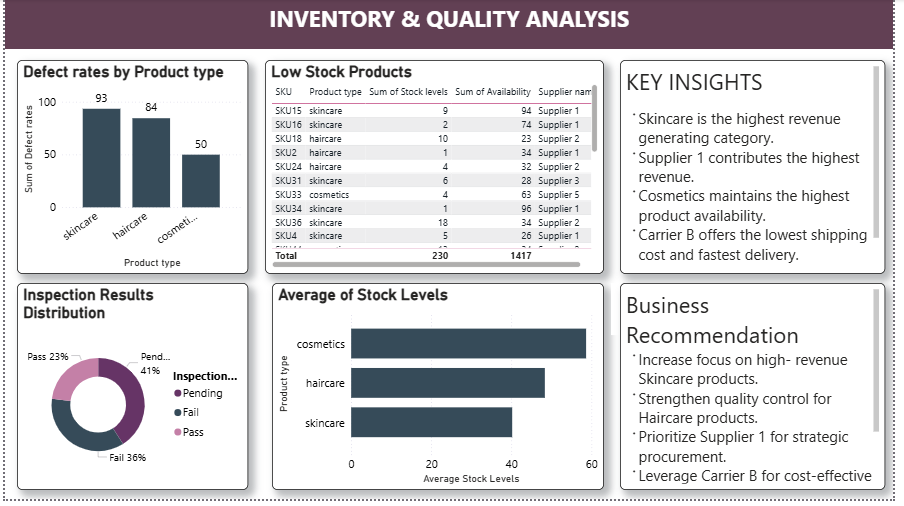

What the dashboard file says about the page in this screenshot:
{"tool":"powerbi","page":{"name":"Page 2","canvas":[1280,720],"ordinal":1},"visuals":[{"type":"columnChart","title":" Defect rates by Product type","fields":{"Category":["supply_chain_data.Product type"],"Y":["Sum(supply_chain_data.Defect rates)"]},"box":[17.3,87.8,332.6,308.2],"z":0},{"type":"donutChart","title":" Inspection Results Distribution","fields":{"Y":["CountNonNull(supply_chain_data.Inspection results)"],"Category":["supply_chain_data.Inspection results"]},"box":[17.3,409,332.6,298.1],"z":1},{"type":"tableEx","title":"Low Stock Products","fields":{"Values":["supply_chain_data.SKU","supply_chain_data.Product type","Sum(supply_chain_data.Stock levels)","Sum(supply_chain_data.Availability)","supply_chain_data.Supplier name"]},"box":[374.4,87.8,488.2,308.2],"z":2},{"type":"clusteredBarChart","title":"Average of Stock Levels ","fields":{"Category":["supply_chain_data.Product type"],"Y":["supply_chain_data.Average Stock Levels"]},"box":[384.5,409,478.1,298.1],"z":3},{"type":"textbox","box":[872.6,409,407.5,74.9],"z":4},{"type":"textbox","box":[0,0,1280.2,72],"z":5},{"type":"textbox","box":[885.6,87.8,381.6,308.2],"z":6},{"type":"textbox","box":[885.6,409,381.6,298.1],"z":7}]}

Visuals, with their boxes in screenshot pixels (x1, y1, x2, y2), scaled from the page's 1280x720 canvas onto the 904x506 screenshot:
" Defect rates by Product type" columnChart: [x1=12, y1=62, x2=247, y2=278]
" Inspection Results Distribution" donutChart: [x1=12, y1=287, x2=247, y2=497]
"Low Stock Products" tableEx: [x1=264, y1=62, x2=609, y2=278]
"Average of Stock Levels " clusteredBarChart: [x1=272, y1=287, x2=609, y2=497]
textbox: [x1=616, y1=287, x2=903, y2=340]
textbox: [x1=0, y1=0, x2=903, y2=51]
textbox: [x1=625, y1=62, x2=895, y2=278]
textbox: [x1=625, y1=287, x2=895, y2=497]
